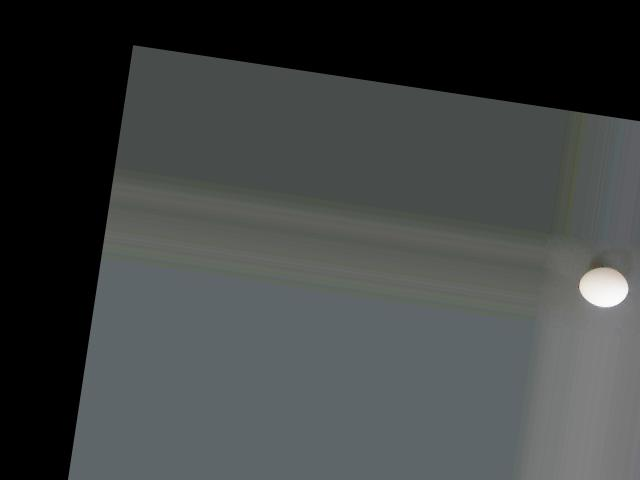egg: (575, 263, 629, 310)
